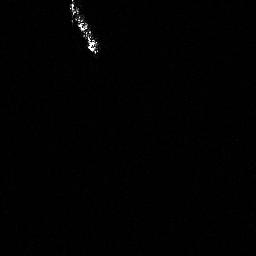ship: (66, 1, 105, 55)
